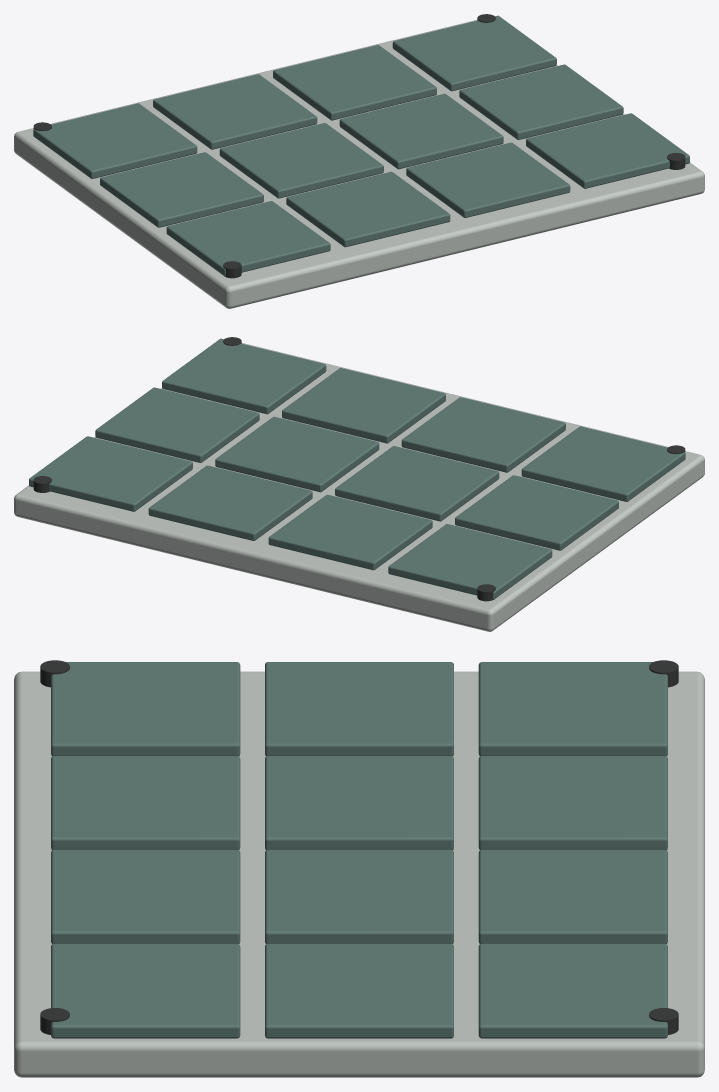
File: spacecraft-thermal-test-chamber-satellite-panel-coupon-87231ae2__32034.glb
3 renders of one model, top to bottom at view 1: azimuth 30°, elevation 25°; view 2: azimuth 150°, elevation 25°; view 3: azimuth 270°, elevation 25°, orthographic. The views are drawn at different scales.
Visible parts, largest first — view 1: satellite-panel-coupon; view 2: satellite-panel-coupon; view 3: satellite-panel-coupon.
Boxes of the visible parts, box(x1,y1,x2,y2) form: satellite-panel-coupon: box(14, 14, 704, 308); satellite-panel-coupon: box(14, 337, 704, 631); satellite-panel-coupon: box(14, 660, 704, 1077).
Size of the model in its own units: 0.54 by 0.035 by 0.42.
